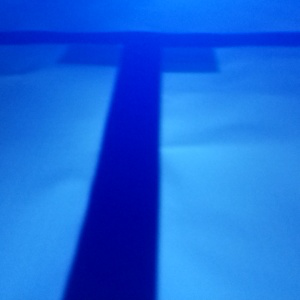bottom_left: (57, 33, 162, 65)
bottom_right: (124, 33, 217, 72)
